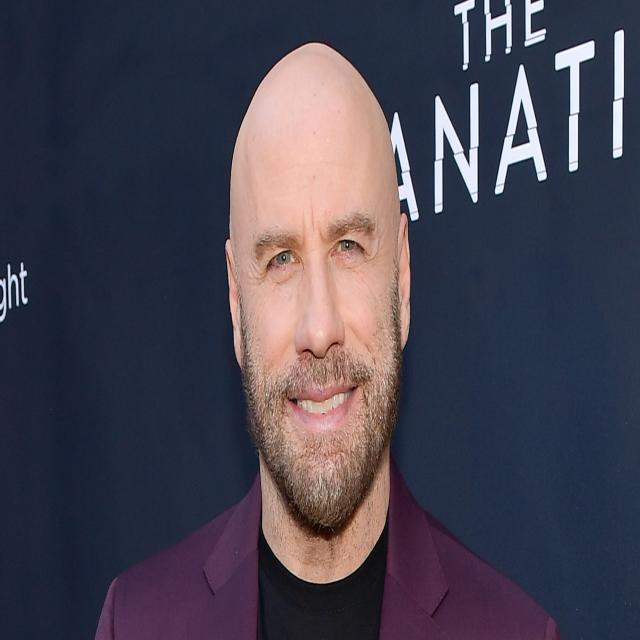bald: (211, 31, 417, 292)
